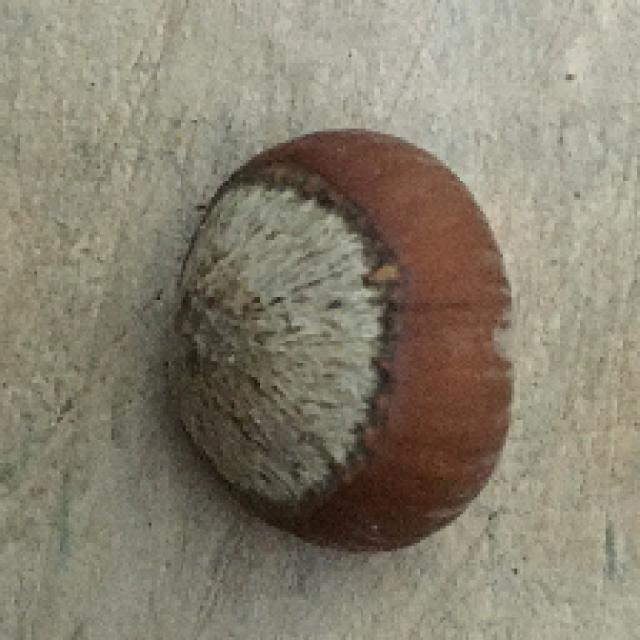QualityHazelnut: (159, 124, 522, 559)
